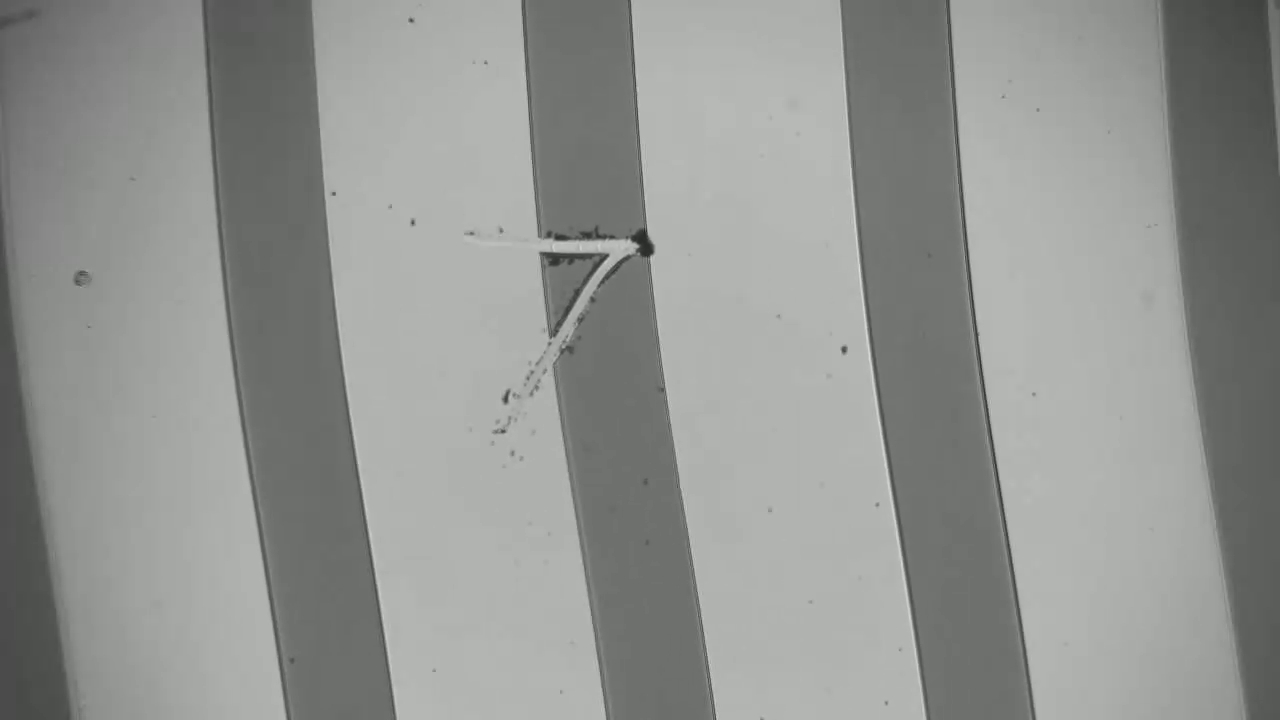Short_circuit: (504, 206, 677, 271)
